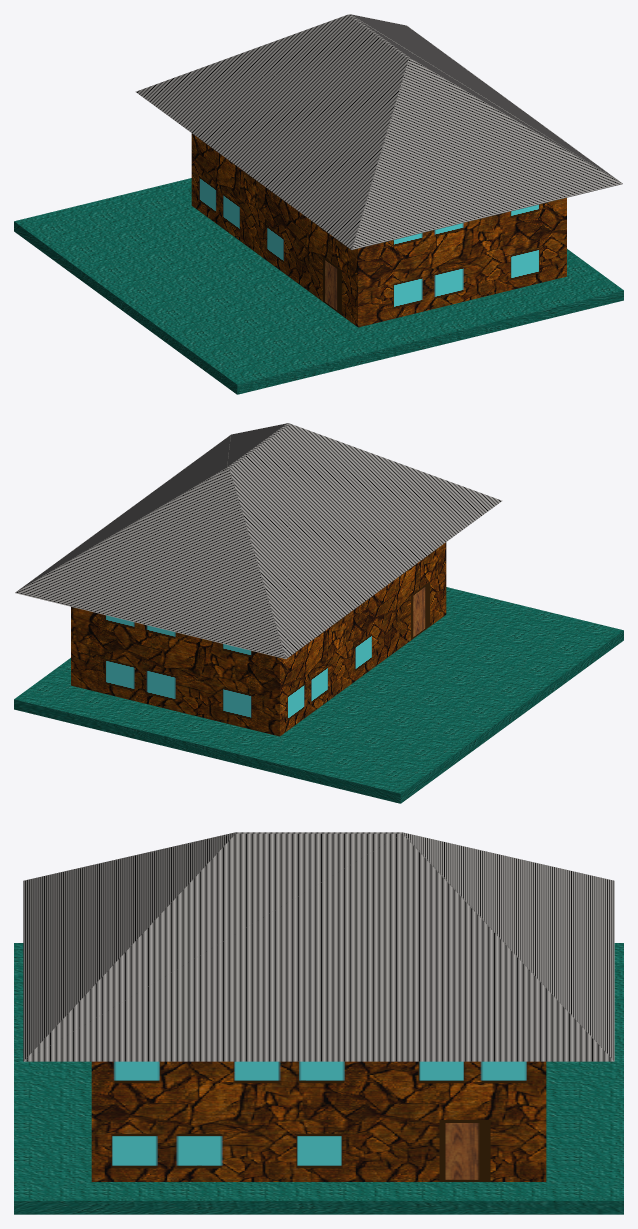
File: Dwelling_Grade_1_Tile_8x8.fbx
3 renders of one model, top to bottom at view 1: azimuth 30°, elevation 25°; view 2: azimuth 150°, elevation 25°; view 3: azimuth 270°, elevation 25°, orthographic. The views are drawn at different scales.
Parts seen in each view (by area): view 1: Cube; view 2: Cube; view 3: Cube.
Boxes of the visible parts, x1=… form: Cube: x1=14, y1=14, x2=623, y2=394; Cube: x1=14, y1=423, x2=623, y2=803; Cube: x1=14, y1=832, x2=623, y2=1214.
Bounding box in the file's own units: 201 × 106 × 200.
